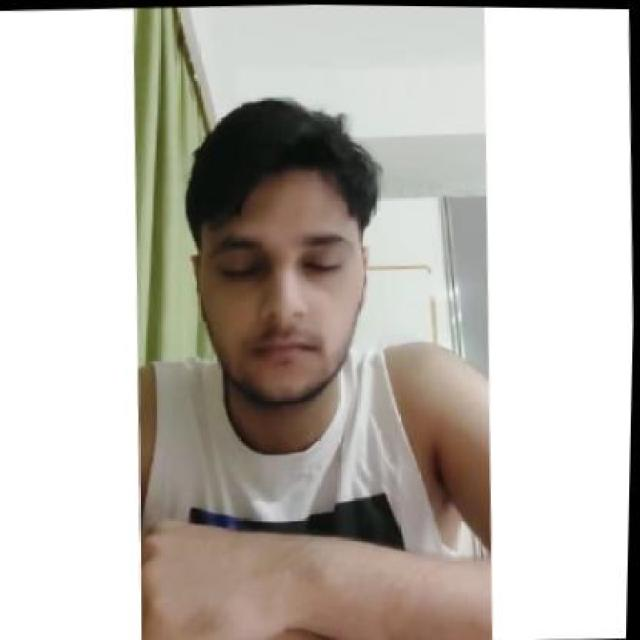inattentif: (180, 95, 382, 412)
